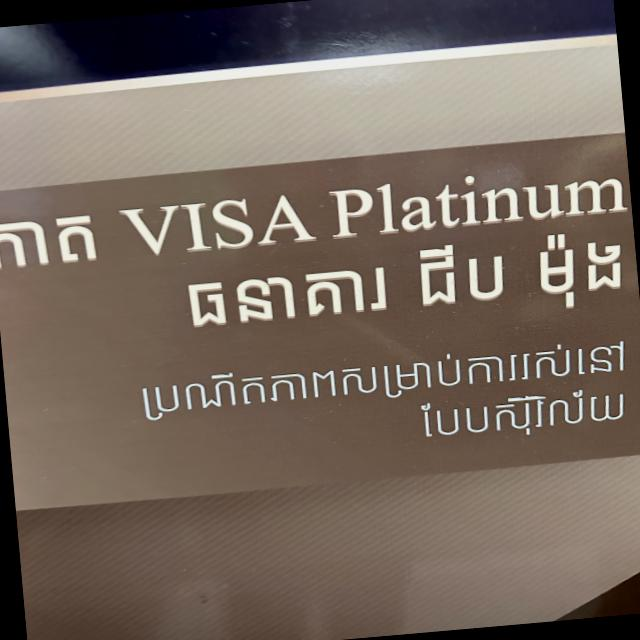2: (173, 231, 631, 348)
Yolov11kh: (127, 331, 640, 431), (411, 389, 636, 442), (0, 202, 101, 278)
